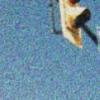traffic lights: (55, 0, 92, 49)
